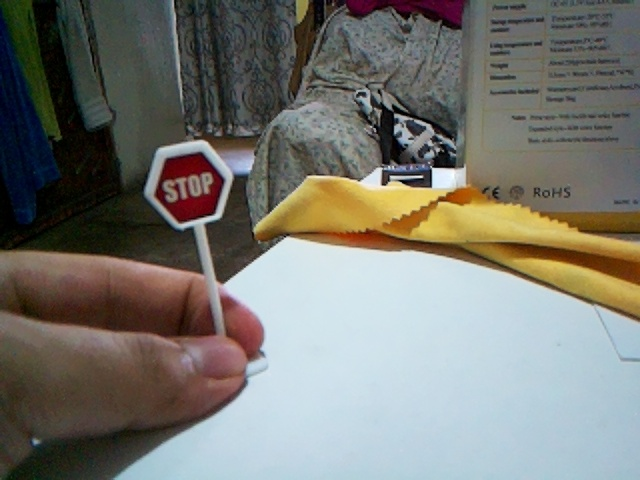stop_sign: (145, 140, 233, 229)
